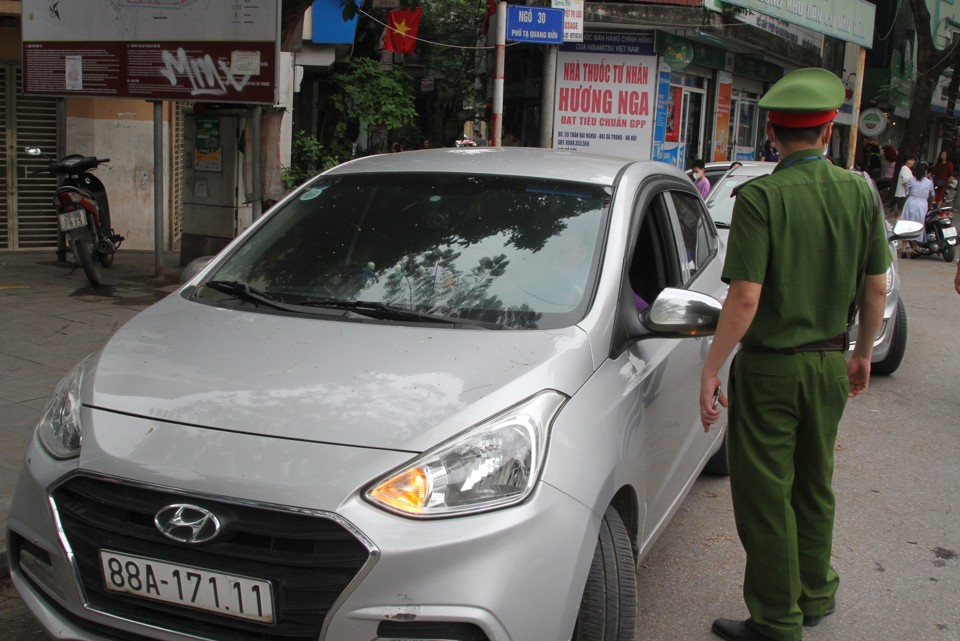number_plate: (93, 543, 279, 632)
